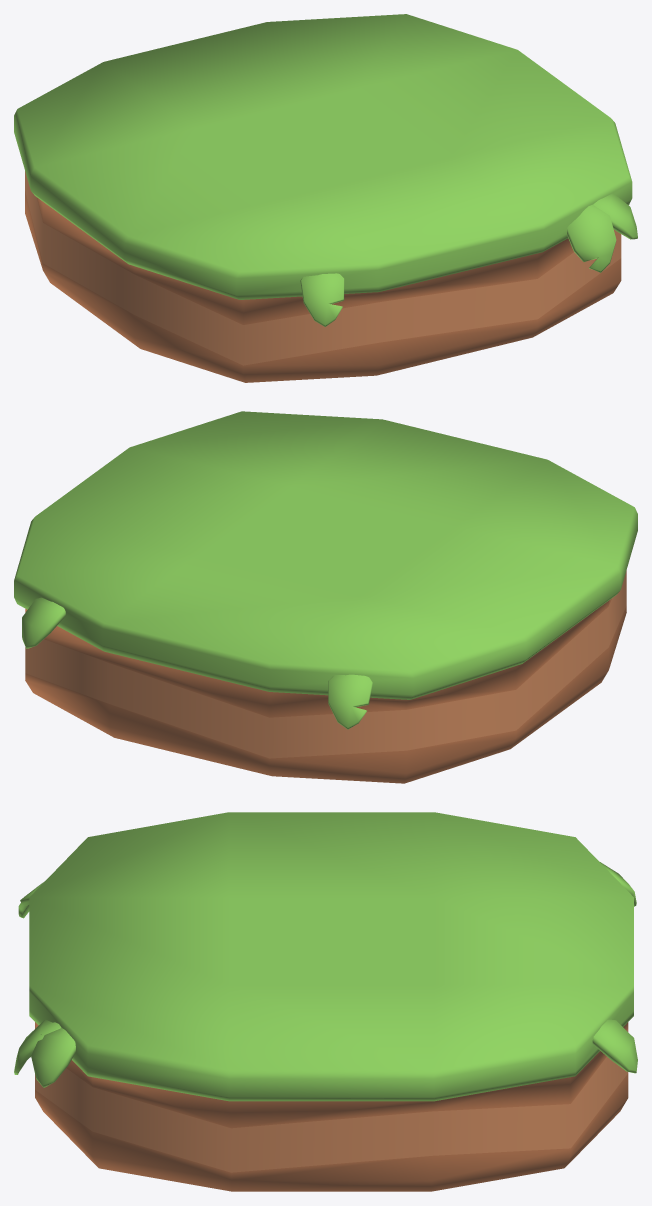
File: platform_01.glb
The picture shows the model from 3 angles, top to bottom: view 1: azimuth 30°, elevation 25°; view 2: azimuth 150°, elevation 25°; view 3: azimuth 270°, elevation 25°; orthographic projection. The views are drawn at different scales.
Visible parts, largest first — view 1: platform 01_toon_material_0.014; view 2: platform 01_toon_material_0.014; view 3: platform 01_toon_material_0.014.
Boxes of the visible parts, left/top/right/bottom form: platform 01_toon_material_0.014: left=14, top=14, right=637, bottom=382; platform 01_toon_material_0.014: left=14, top=411, right=637, bottom=783; platform 01_toon_material_0.014: left=14, top=812, right=637, bottom=1191.
Bounding box in the file's own units: 2.09 × 0.5 × 2.1.
